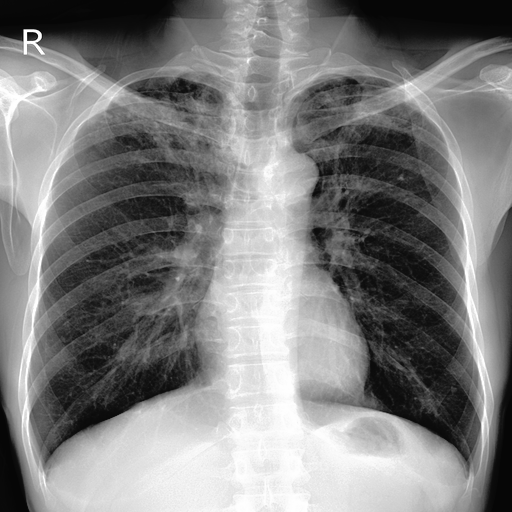Calcification: (282, 79, 337, 136)
Consolidation: (261, 153, 321, 199)
ILD: (89, 71, 237, 191), (290, 76, 436, 150)
Pneumothorax: (89, 71, 237, 191), (307, 89, 424, 149)
